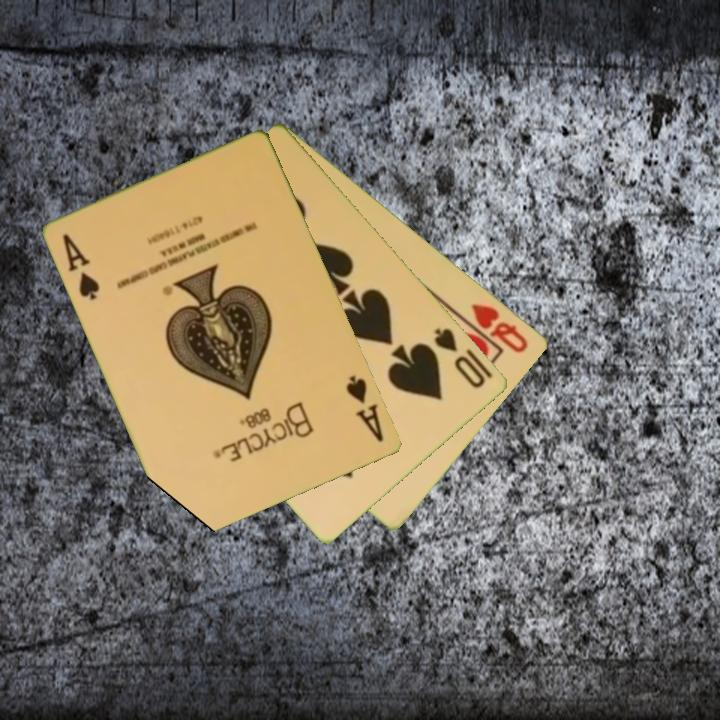10s: (431, 324, 489, 392)
As: (59, 230, 104, 304), (343, 371, 387, 445)
Qh: (468, 299, 532, 356)
